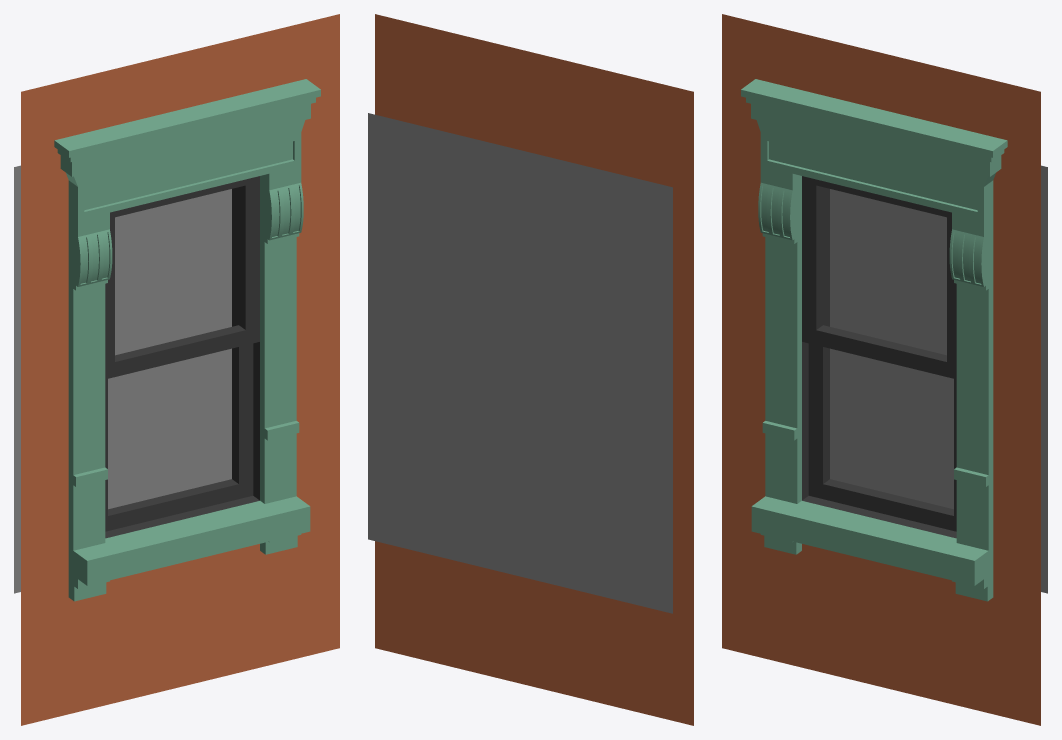
File: object_B2_Window.glb
The picture shows the model from 3 angles, left to right: view 1: azimuth 30°, elevation 25°; view 2: azimuth 150°, elevation 25°; view 3: azimuth 330°, elevation 25°; orthographic projection.
Parts seen in each view (by area): view 1: B2 Window; view 2: B2 Window; view 3: B2 Window.
Part boxes in pixels (box(x1,y1,x2,y2)): B2 Window: box(14, 14, 339, 725); B2 Window: box(368, 14, 693, 725); B2 Window: box(722, 14, 1047, 725).
Size of the model in its own units: 2 by 3.8 by 0.35.
